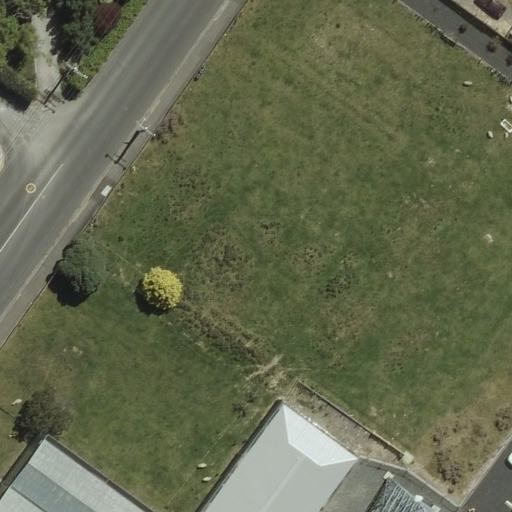DT: (53, 53, 94, 91), (126, 111, 162, 149)
